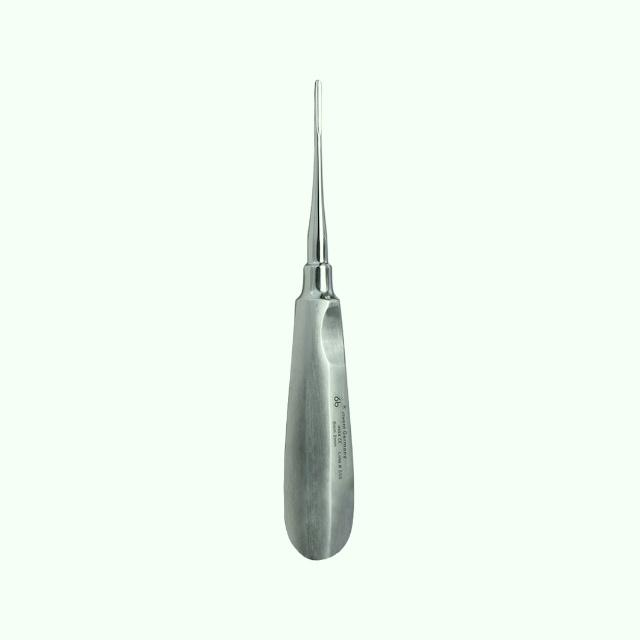botador: (282, 79, 356, 564)
